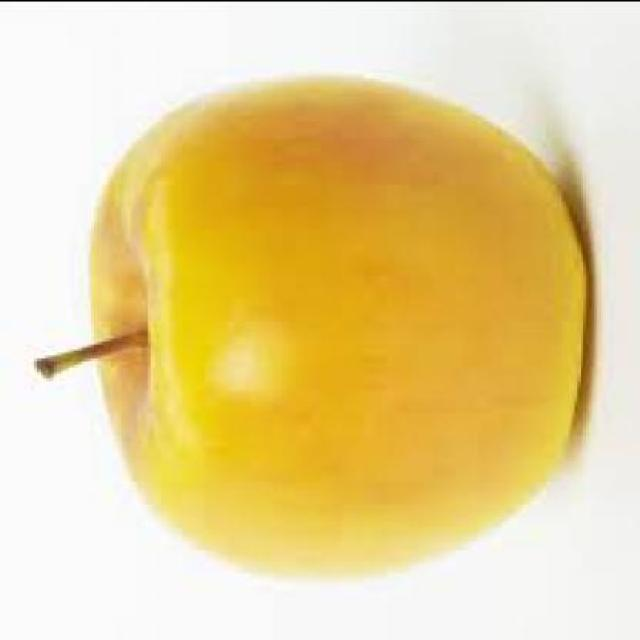BIODEGRADABLE: (92, 79, 588, 571), (36, 332, 148, 378)
